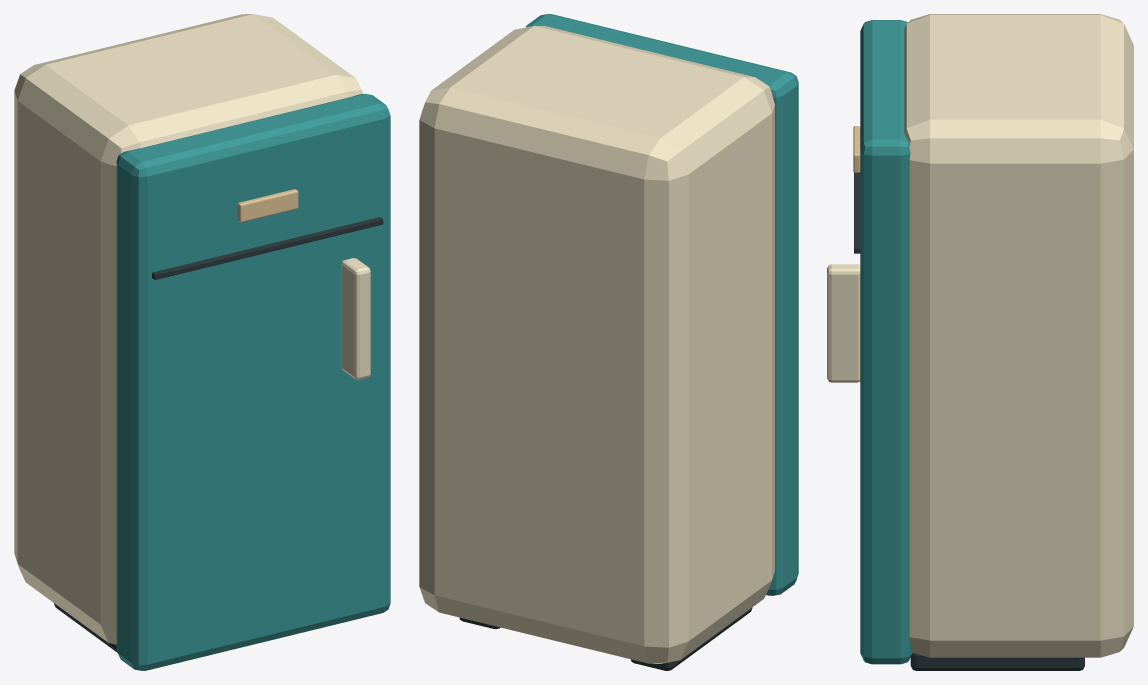
Rendered from S044_retro_refrigerator.glb.
3 views of the same model, side by side, from view 1: azimuth 30°, elevation 25°; view 2: azimuth 150°, elevation 25°; view 3: azimuth 270°, elevation 25° (orthographic). The views are drawn at different scales.
Visible parts, largest first — view 1: fridge_door, fridge_body, fridge_handle, freezer_seam, fridge_badge; view 2: fridge_body, fridge_door, fridge_foot; view 3: fridge_body, fridge_door, fridge_handle, fridge_foot.001, freezer_seam.
Part boxes in pixels (box(x1,y1,x2,y2)): fridge_door: box(116, 93, 390, 670); fridge_body: box(14, 14, 362, 644); fridge_handle: box(341, 258, 370, 379); freezer_seam: box(152, 217, 383, 279); fridge_badge: box(237, 189, 298, 222); fridge_body: box(419, 26, 774, 663); fridge_door: box(525, 14, 798, 595); fridge_foot: box(630, 607, 752, 670); fridge_body: box(904, 14, 1133, 657); fridge_door: box(860, 20, 912, 664); fridge_handle: box(827, 264, 860, 382); fridge_foot.001: box(910, 653, 1084, 670); freezer_seam: box(854, 172, 860, 253).
Size of the model in its own units: 0.9 by 1.75 by 0.88.
